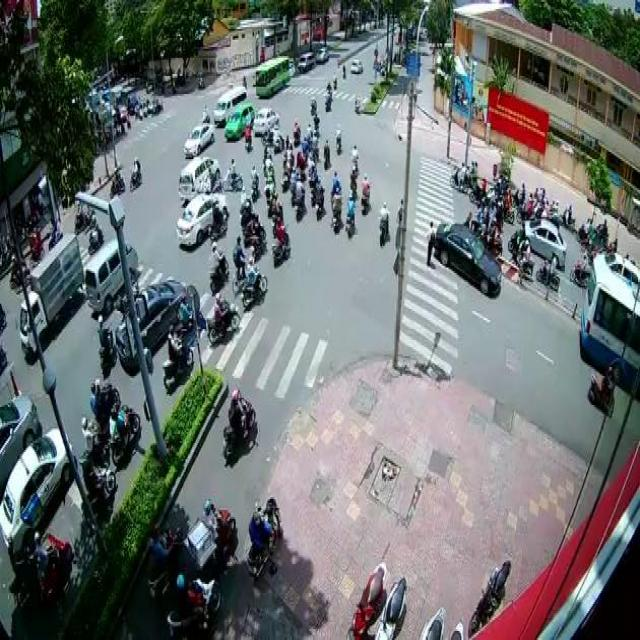bicycle: (232, 231, 252, 291)
bus: (580, 258, 640, 399), (253, 52, 288, 96)
car: (435, 221, 500, 298), (176, 192, 228, 248), (523, 215, 564, 268), (179, 154, 220, 194), (223, 101, 254, 141), (181, 121, 214, 156), (253, 105, 278, 137)
motorcycle: (166, 571, 220, 638), (189, 497, 235, 573), (33, 528, 72, 607), (245, 495, 282, 575), (147, 521, 181, 598), (220, 387, 255, 459), (80, 460, 113, 524), (162, 324, 193, 392), (108, 400, 139, 464), (204, 291, 239, 345), (81, 414, 110, 472), (87, 378, 119, 425), (95, 314, 117, 380), (587, 365, 615, 416), (241, 257, 266, 309), (206, 238, 228, 296), (271, 215, 291, 268), (534, 253, 559, 291), (507, 238, 532, 274), (220, 156, 242, 192), (449, 161, 467, 195), (313, 172, 325, 219), (108, 164, 124, 199), (344, 192, 356, 238), (330, 186, 341, 235), (378, 200, 389, 248), (294, 174, 304, 222), (129, 156, 142, 192), (359, 170, 368, 217), (249, 162, 259, 202), (384, 376, 512, 378)
truck: (0, 423, 74, 550), (18, 228, 82, 356), (83, 235, 138, 313), (213, 83, 247, 123)
